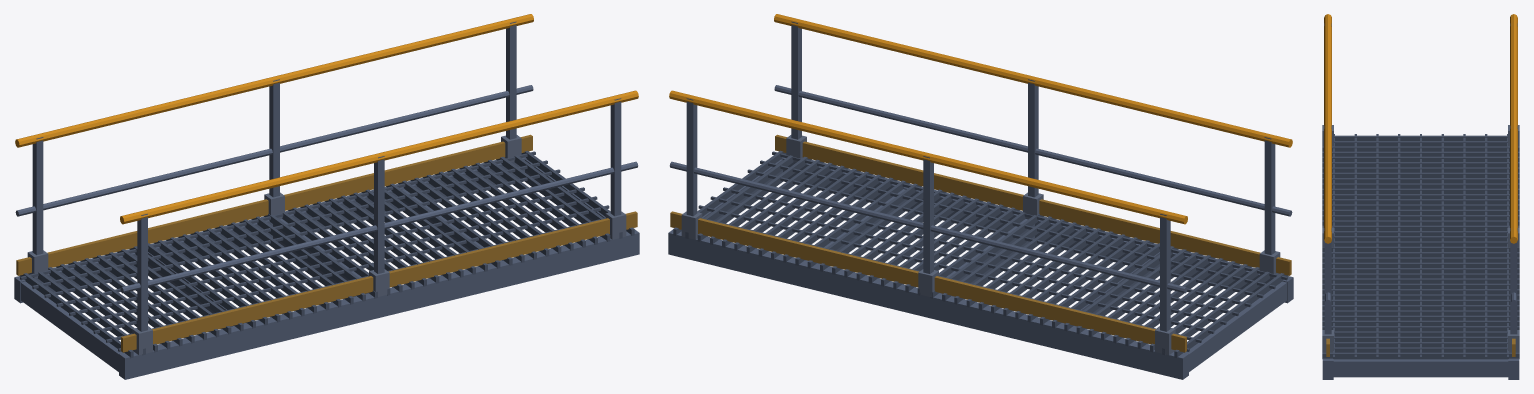
The model's file is wh_catwalk.glb.
3 renders of one model, left to right at view 1: azimuth 30°, elevation 25°; view 2: azimuth 150°, elevation 25°; view 3: azimuth 270°, elevation 25°, orthographic. The views are drawn at different scales.
Visible parts, largest first — view 1: deck, handrail, kick_plate, handrail.001, post_socket; view 2: deck, handrail, kick_plate, handrail.001, post_socket; view 3: deck, handrail, handrail.001, post_socket.
Part boxes in pixels (left/top/right/bottom): deck: left=19, top=150, right=634, bottom=358; handrail: left=14, top=21, right=639, bottom=379; kick_plate: left=16, top=134, right=637, bottom=352; handrail.001: left=15, top=14, right=638, bottom=224; post_socket: left=27, top=135, right=626, bottom=355; deck: left=673, top=150, right=1288, bottom=358; handrail: left=668, top=21, right=1293, bottom=379; kick_plate: left=670, top=134, right=1291, bottom=352; handrail.001: left=669, top=14, right=1292, bottom=224; post_socket: left=681, top=135, right=1280, bottom=355; deck: left=1322, top=134, right=1519, bottom=359; handrail: left=1322, top=23, right=1519, bottom=379; handrail.001: left=1324, top=14, right=1517, bottom=243; post_socket: left=1322, top=125, right=1519, bottom=352.
Size of the model in its own units: 4 by 1.2 by 1.5.
